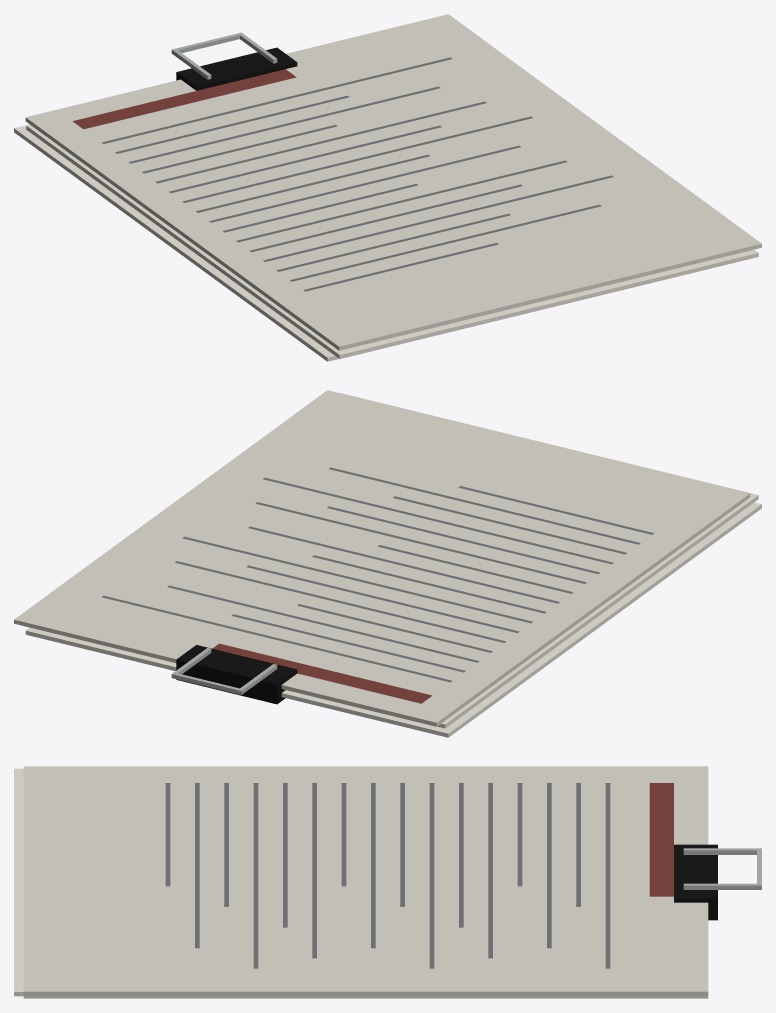
File: accounting_records.glb
3 renders of one model, top to bottom at view 1: azimuth 30°, elevation 25°; view 2: azimuth 150°, elevation 25°; view 3: azimuth 270°, elevation 25°, orthographic. The views are drawn at different scales.
Visible parts, largest first — view 1: accounting_records:compound; view 2: accounting_records:compound; view 3: accounting_records:compound.
Boxes of the visible parts, <box> form: accounting_records:compound: <box>14,14,761,361</box>; accounting_records:compound: <box>14,390,761,737</box>; accounting_records:compound: <box>14,766,761,998</box>.
Bounding box in the file's own units: 0.224 × 0.012 × 0.306.
